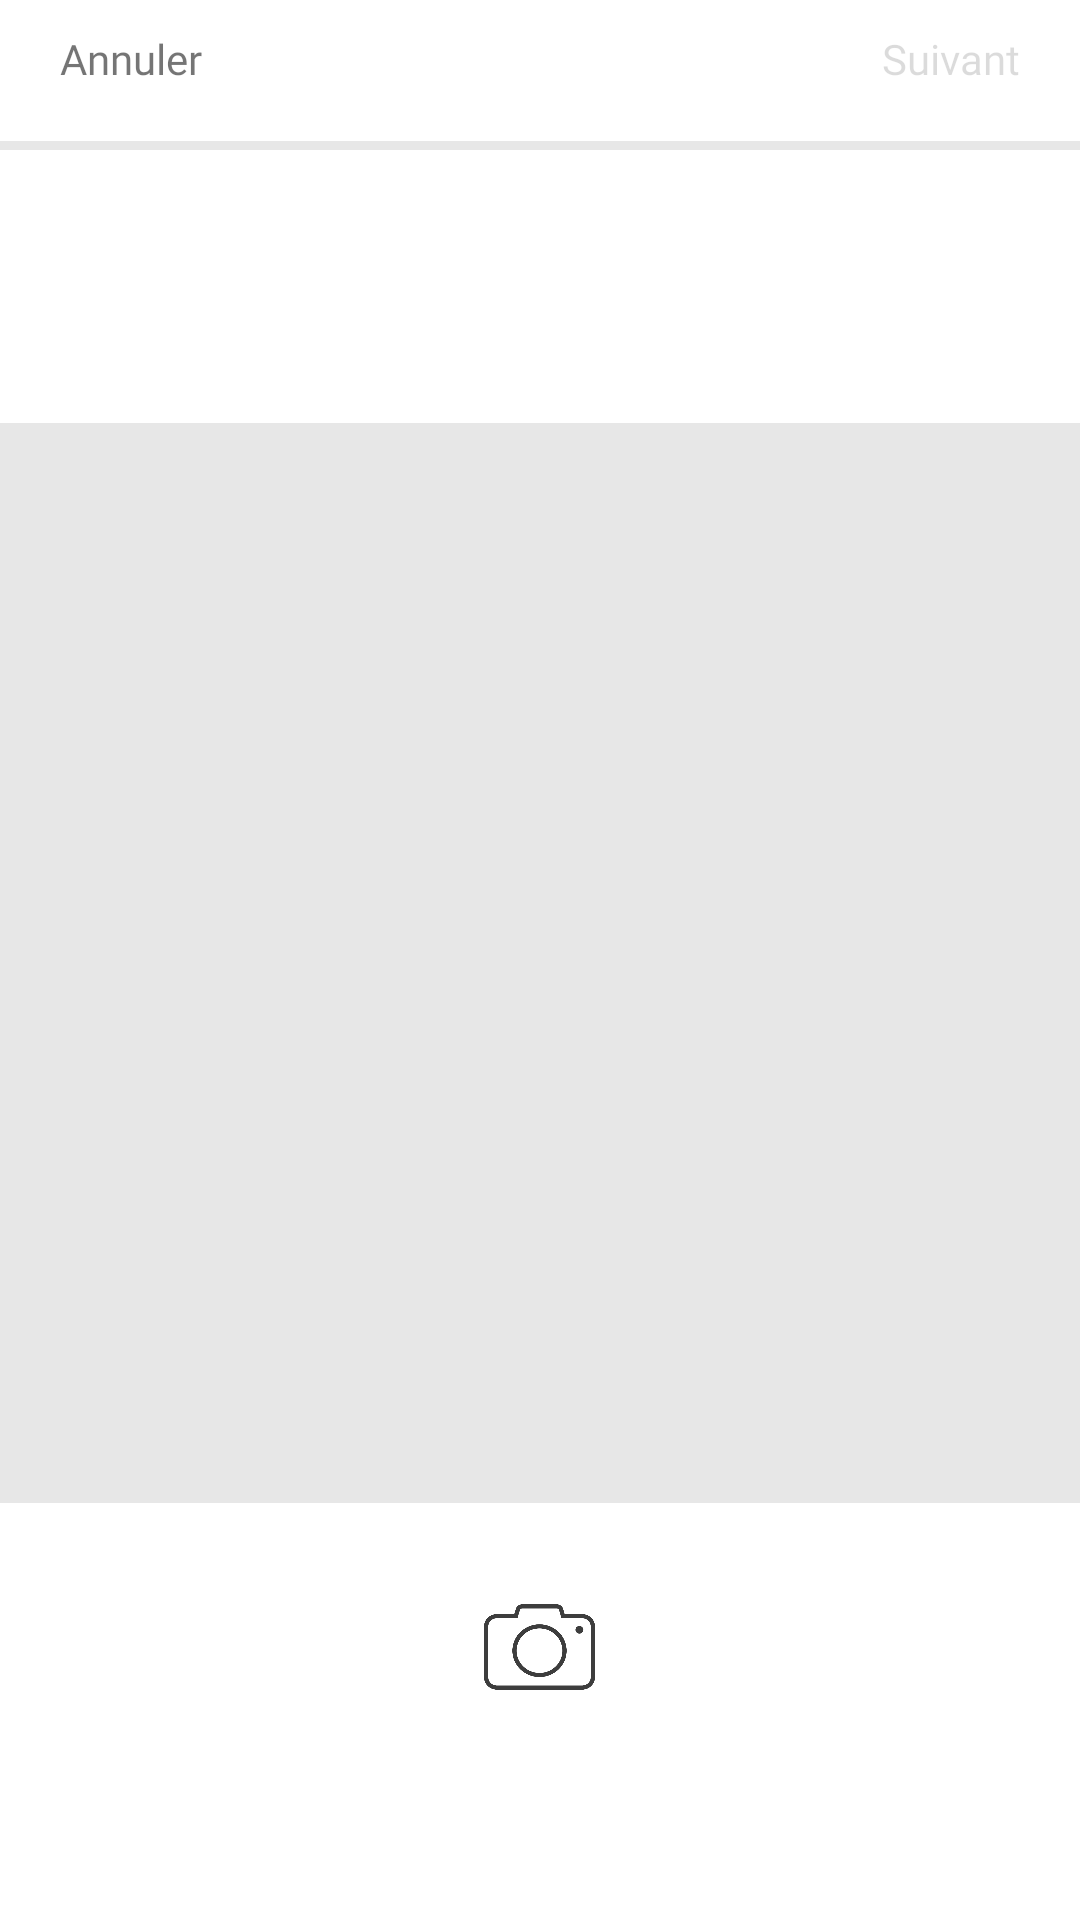

Where to tap for icons on this 1080px×1920px app screen, as [x,y]:
photo camera: [539,1647]
